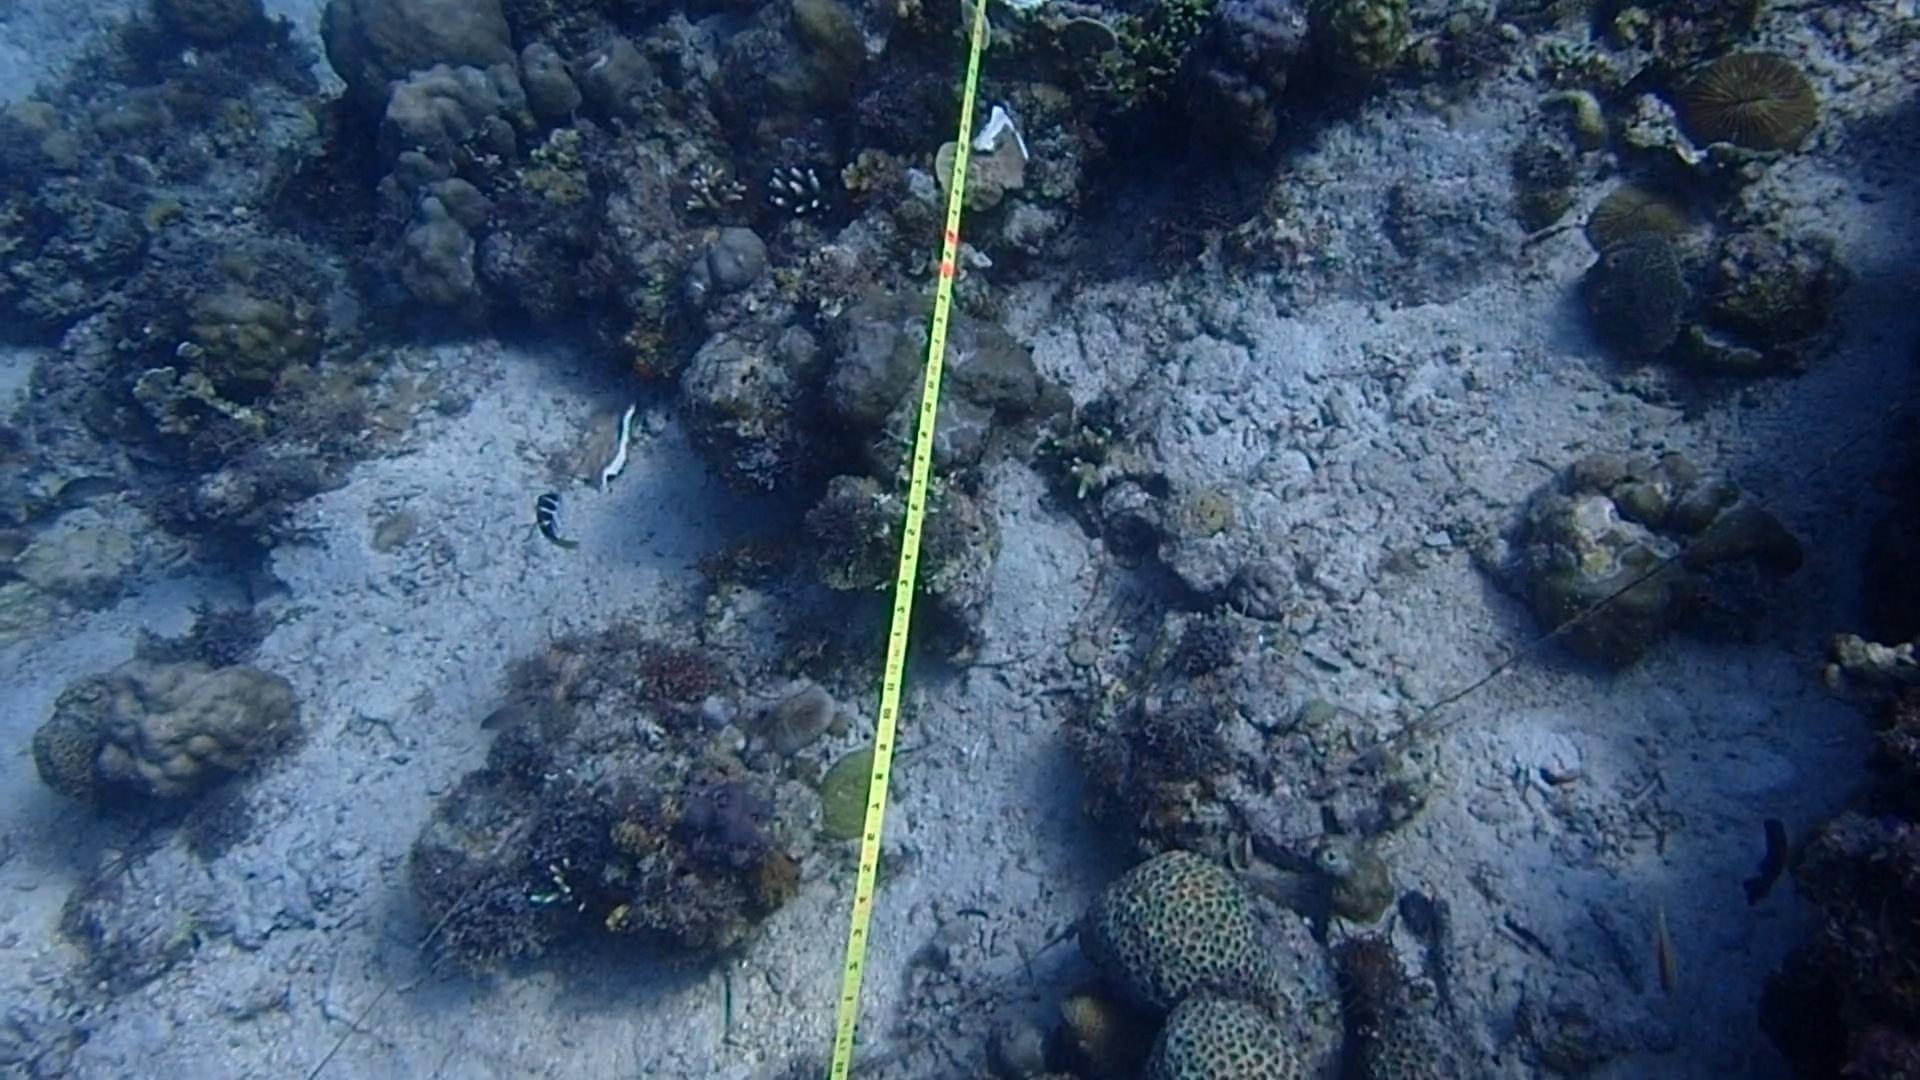Striped Fish: (526, 483, 587, 562)
